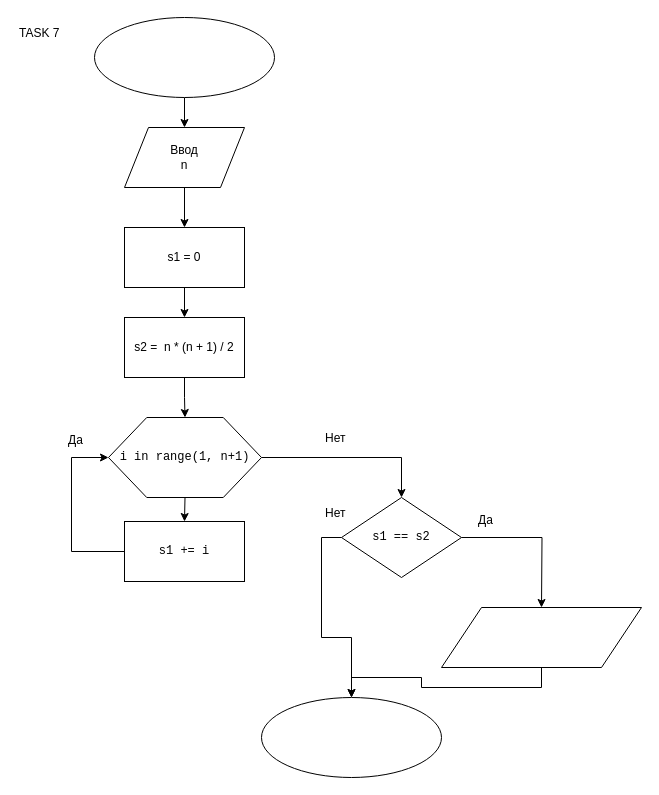
The diagram is 659 pixels wide and 795 high, and some of its shapes have lost their labels. The shapes that lost their labels are listed below. From the top down, each one's centre as x and y in pixels, then its label:
point (184, 57): Начало
point (541, 637): Вывод f'{s1} = { int (s2)}'
point (351, 737): Конец
